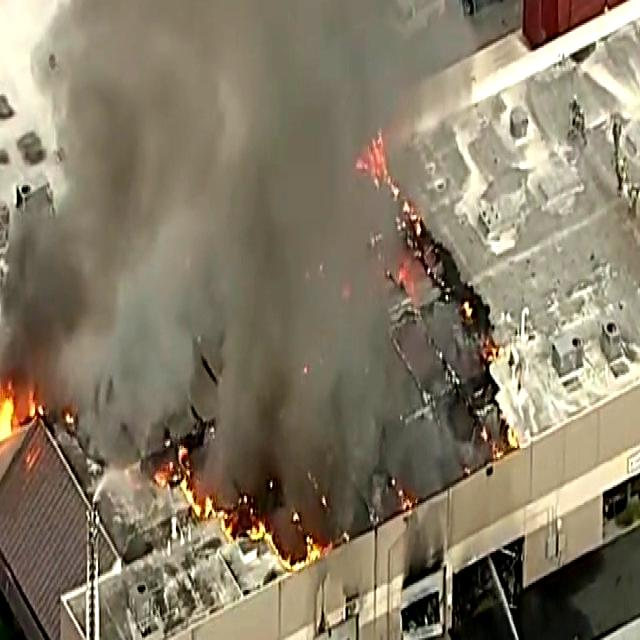fire: (0, 391, 23, 480)
smoke: (146, 0, 307, 284)
